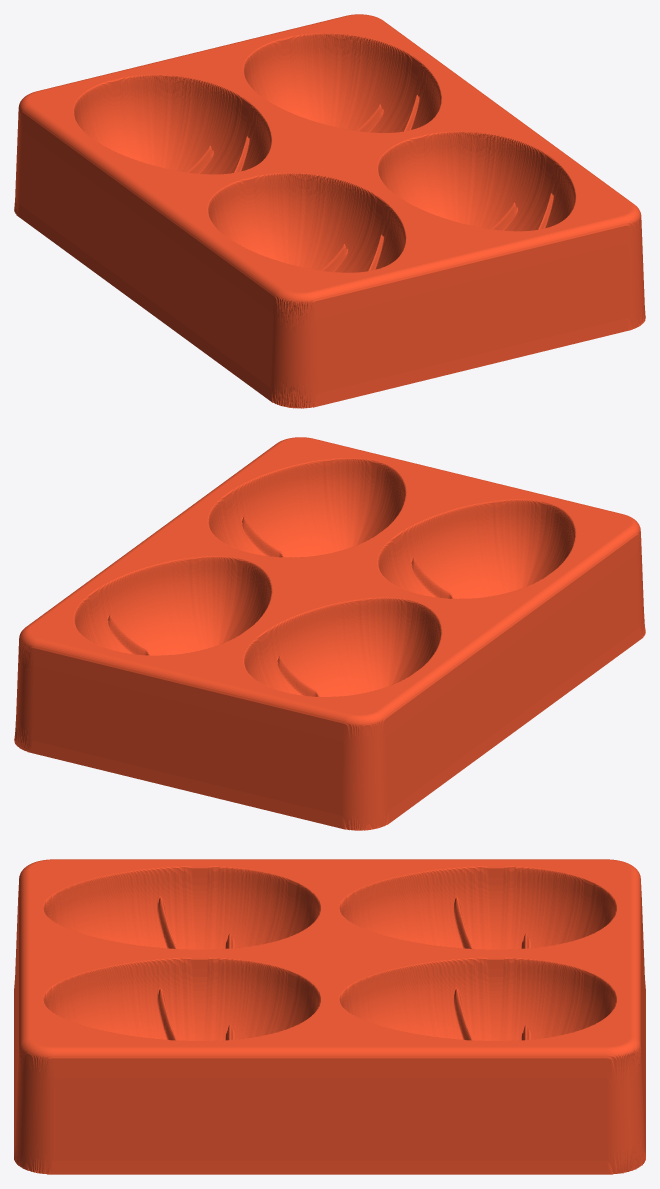
The model's file is mold.glb.
3 views of the same model, one above another, from view 1: azimuth 30°, elevation 25°; view 2: azimuth 150°, elevation 25°; view 3: azimuth 270°, elevation 25° (orthographic). The views are drawn at different scales.
Visible parts, largest first — view 1: geometry_0; view 2: geometry_0; view 3: geometry_0.
Boxes of the visible parts, left/top/right/bottom form: geometry_0: left=14, top=14, right=645, bottom=408; geometry_0: left=14, top=437, right=645, bottom=830; geometry_0: left=14, top=859, right=645, bottom=1174.
Bounding box in the file's own units: 0.1096 × 0.031 × 0.1466.
